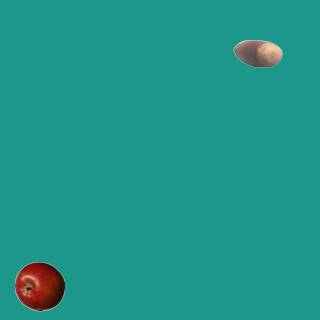Apple Braeburn: (14, 261, 64, 311)
Hazelnut: (232, 28, 282, 78)
